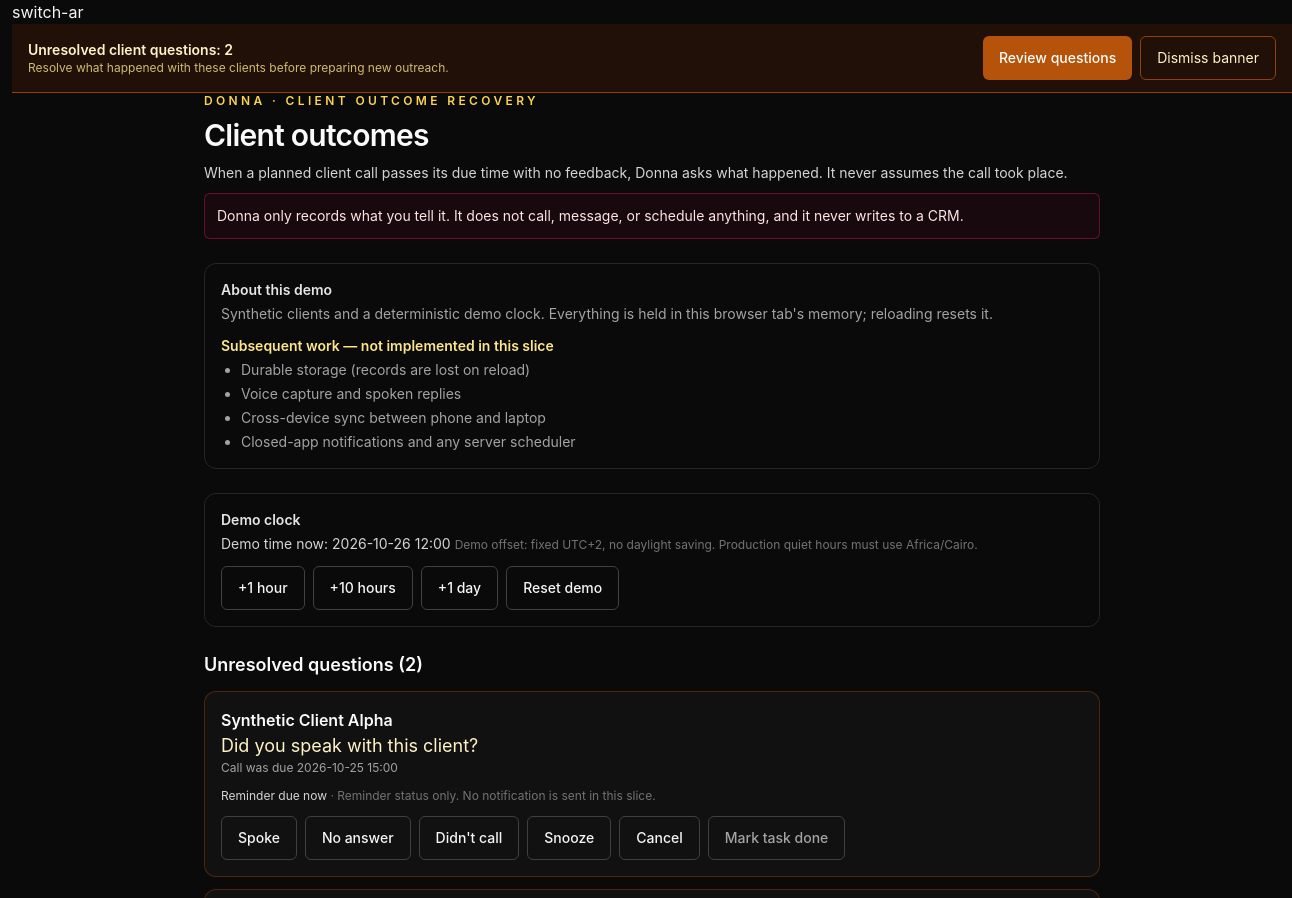
it: Donna inbox (English) › records 'spoke' with an internal follow-up, labelled as not agreed with the client
Click the button "Spoke" at (259,838), box [221,816,297,860]
(page scrolled)
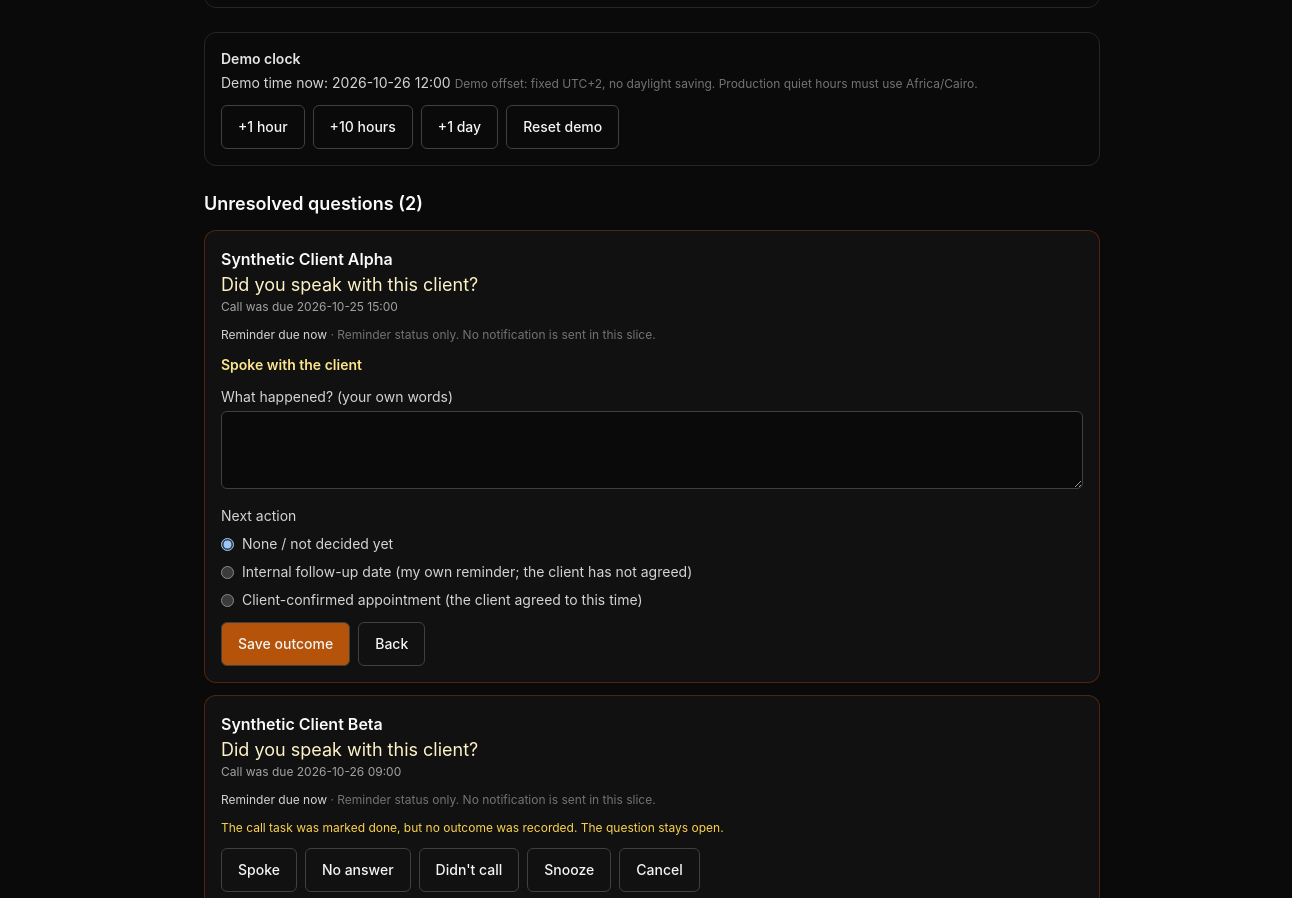
Type "Asked for a revised offer" into the text box labelled "What happened? (your own words)" at (652,450), box [221,411,1083,489]
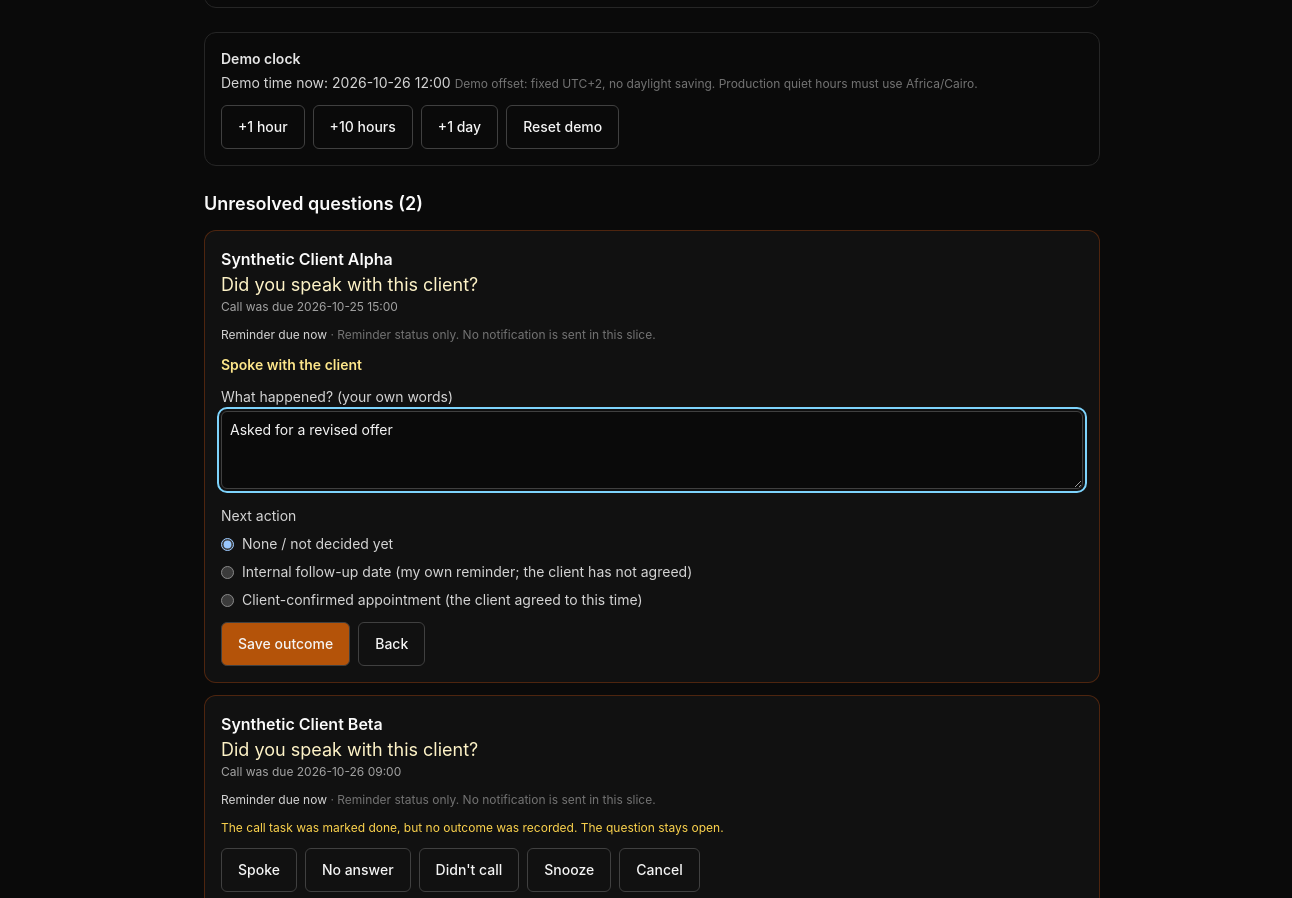
Click the radio button labelled "Internal follow-up date" at (228,572), box [221,566,234,579]
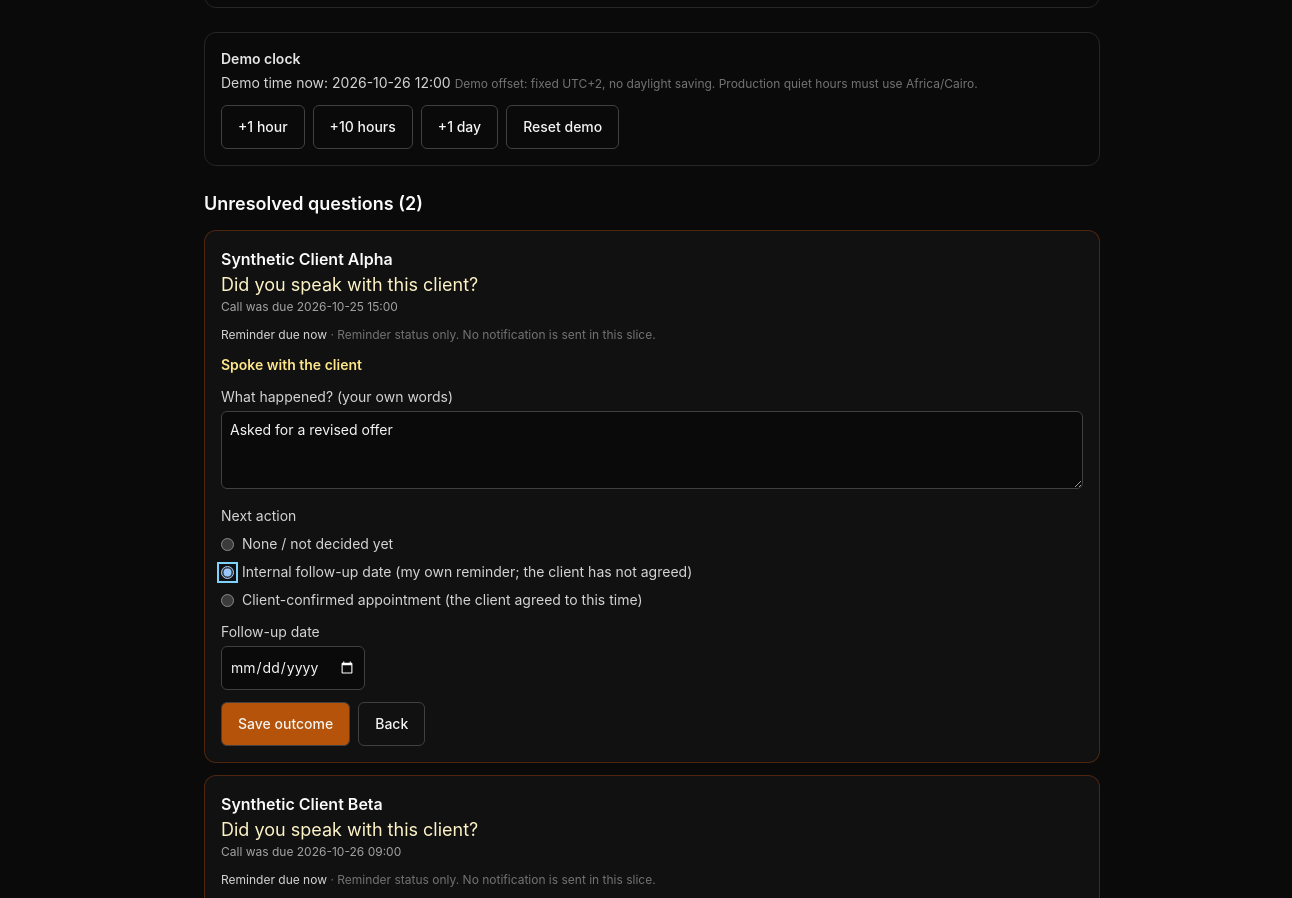
Type "2026-10-29" into the date field labelled "Follow-up date" at (293,668), box [221,646,365,690]
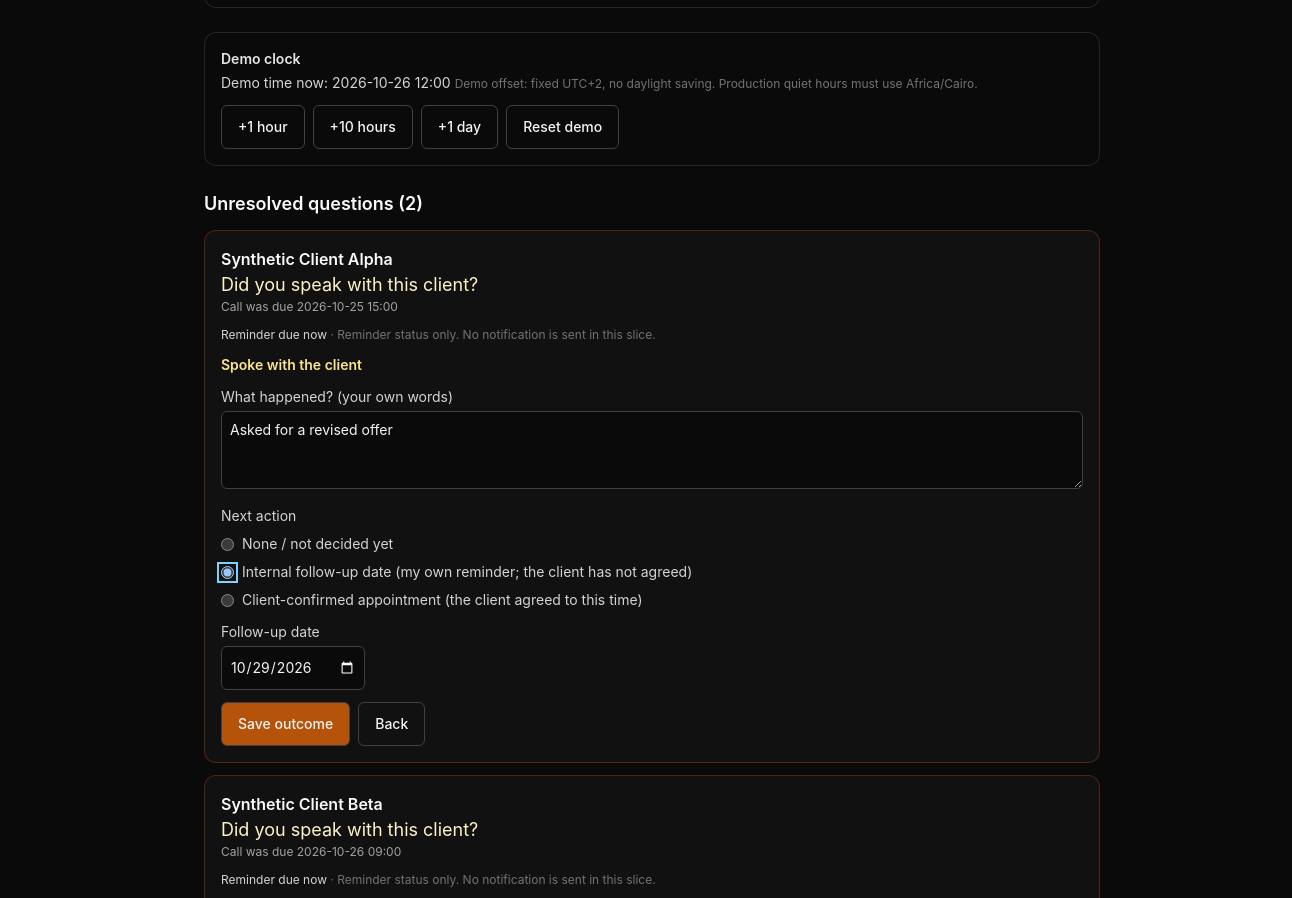
Click the button "Save outcome" at (286,724), box [221,702,350,746]
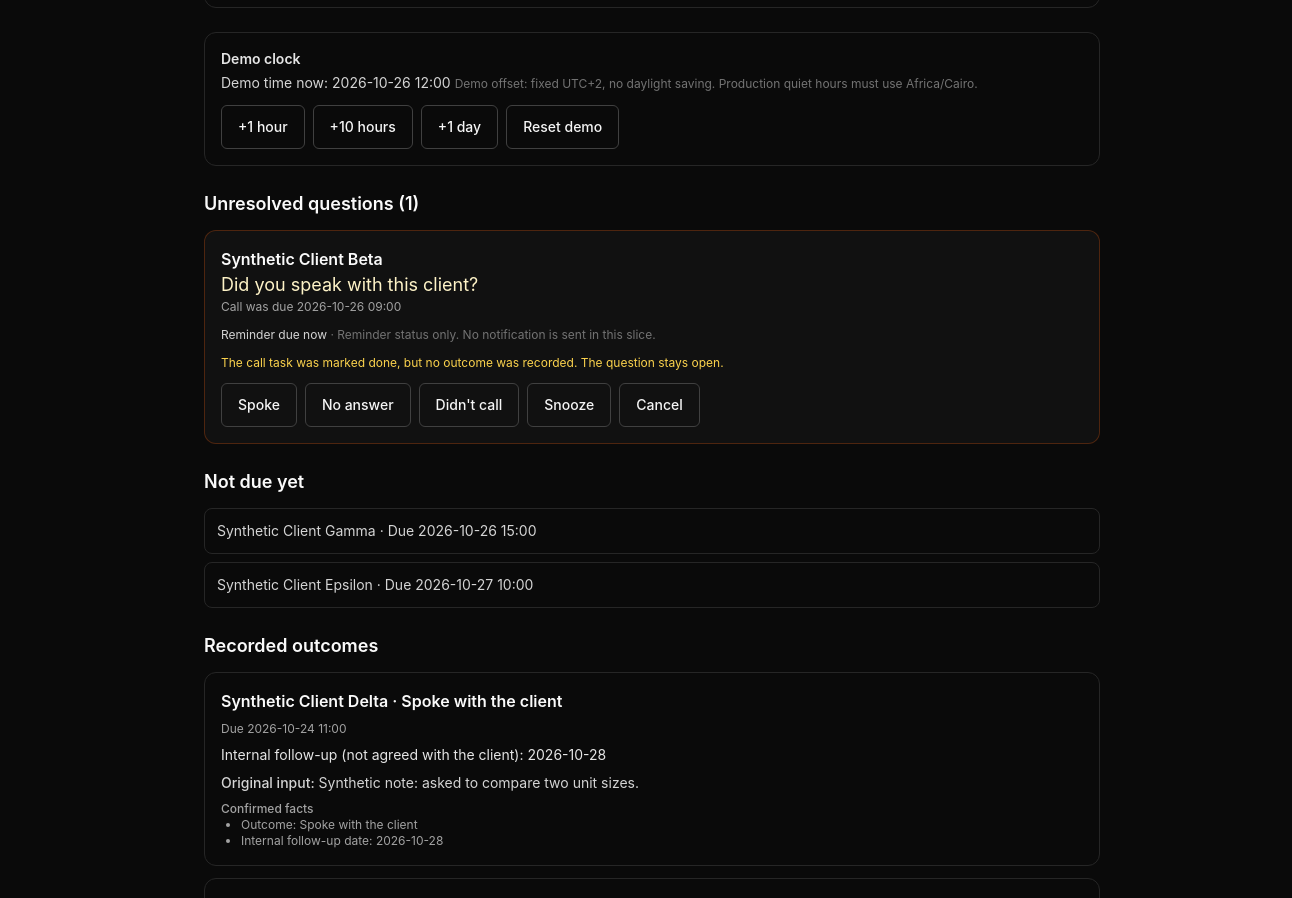
Expected: the element with test id "donna-question-call-alpha" is gone
Expected: the text with test id "donna-unresolved-count" reads "(1)", [398,193,419,214]
